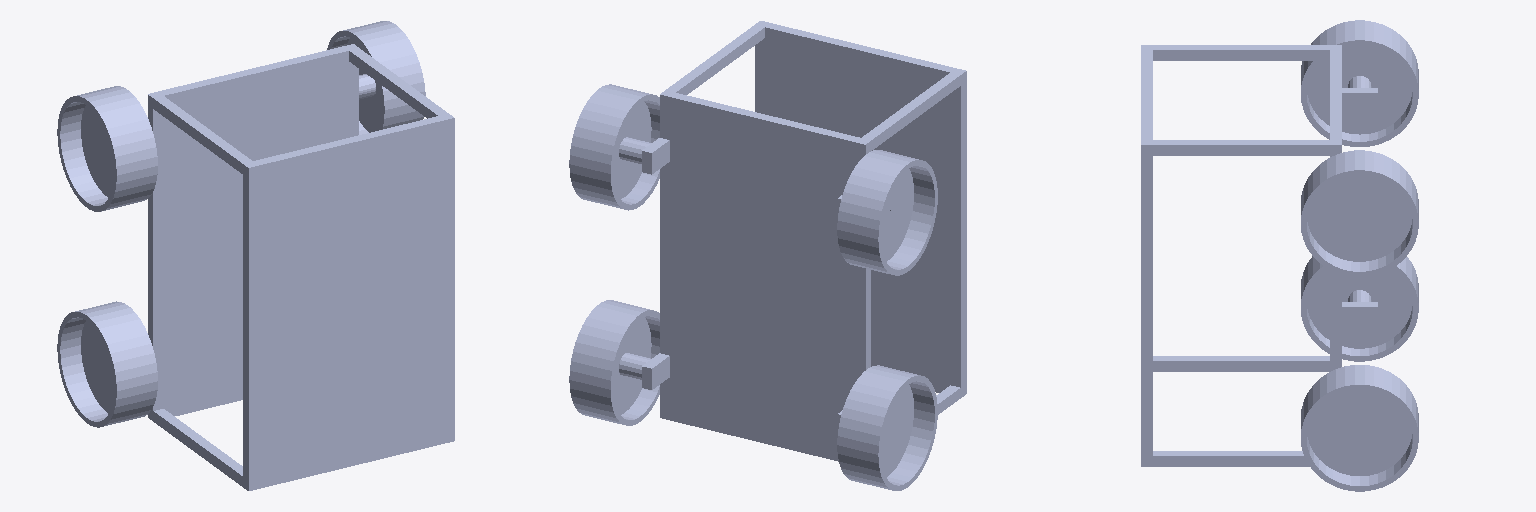
URDF robot description (Robot_Model_Description):
<?xml version="1.0" encoding="utf-8"?>
<!-- This URDF was automatically created by SolidWorks to URDF Exporter! Originally created by [author] ([email redacted]) 
     Commit Version: 1.6.0-1-g15f4949  Build Version: 1.6.7594.29634
     For more information, please see http://wiki.ros.org/sw_urdf_exporter -->
<robot
  name="Robot_Model_Description">
  <link
    name="base_link">
    <inertial>
      <origin
        xyz="0.092069329312619 0.147088478903328 0.259631456685728"
        rpy="0 0 0" />
      <mass
        value="1.29342477796077" />
      <inertia
        ixx="0.0187270757133084"
        ixy="1.64906726918572E-17"
        ixz="1.99535596146657E-17"
        iyy="0.0130141185757167"
        iyz="4.21187981926449E-18"
        izz="0.0154812562313482" />
    </inertial>
    <visual>
      <origin
        xyz="0 0 0"
        rpy="0 0 0" />
      <geometry>
        <mesh
          filename="package://Robot_Model_Description/meshes/base_link.STL" />
      </geometry>
      <material
        name="">
        <color
          rgba="0.792156862745098 0.819607843137255 0.933333333333333 1" />
      </material>
    </visual>
    <collision>
      <origin
        xyz="0 0 0"
        rpy="0 0 0" />
      <geometry>
        <mesh
          filename="package://Robot_Model_Description/meshes/base_link.STL" />
      </geometry>
    </collision>
  </link>
  <link
    name="FrontRight_Wheel_Link">
    <inertial>
      <origin
        xyz="2.77555756156289E-17 -0.0281275303643724 0"
        rpy="0 0 0" />
      <mass
        value="0.0969966731795849" />
      <inertia
        ixx="9.38005213215943E-05"
        ixy="-1.12237458356287E-36"
        ixz="1.95021298162857E-36"
        iyy="0.000167618694284579"
        iyz="1.0179478791177E-20"
        izz="9.38005213215944E-05" />
    </inertial>
    <visual>
      <origin
        xyz="0 0 0"
        rpy="0 0 0" />
      <geometry>
        <mesh
          filename="package://Robot_Model_Description/meshes/FrontRight_Wheel_Link.STL" />
      </geometry>
      <material
        name="">
        <color
          rgba="0.792156862745098 0.819607843137255 0.933333333333333 1" />
      </material>
    </visual>
    <collision>
      <origin
        xyz="0 0 0"
        rpy="0 0 0" />
      <geometry>
        <mesh
          filename="package://Robot_Model_Description/meshes/FrontRight_Wheel_Link.STL" />
      </geometry>
    </collision>
  </link>
  <joint
    name="FrontRight_Wheel_Joint"
    type="continuous">
    <origin
      xyz="0.19207 -0.16222 0.24709"
      rpy="1.5708 -1.5708 0" />
    <parent
      link="base_link" />
    <child
      link="FrontRight_Wheel_Link" />
    <axis
      xyz="0 1 0" />
    <limit
      effort="100"
      velocity="100" />
  </joint>
  <link
    name="FrontLeft_Wheel_Link">
    <inertial>
      <origin
        xyz="2.77555756156289E-17 -0.0281275303643725 0"
        rpy="0 0 0" />
      <mass
        value="0.0969966731795848" />
      <inertia
        ixx="9.38005213215944E-05"
        ixy="-1.12237458356287E-36"
        ixz="1.95021298162857E-36"
        iyy="0.000167618694284579"
        iyz="4.53259247614831E-21"
        izz="9.38005213215944E-05" />
    </inertial>
    <visual>
      <origin
        xyz="0 0 0"
        rpy="0 0 0" />
      <geometry>
        <mesh
          filename="package://Robot_Model_Description/meshes/FrontLeft_Wheel_Link.STL" />
      </geometry>
      <material
        name="">
        <color
          rgba="0.792156862745098 0.819607843137255 0.933333333333333 1" />
      </material>
    </visual>
    <collision>
      <origin
        xyz="0 0 0"
        rpy="0 0 0" />
      <geometry>
        <mesh
          filename="package://Robot_Model_Description/meshes/FrontLeft_Wheel_Link.STL" />
      </geometry>
    </collision>
  </link>
  <joint
    name="FrontLeft_Wheel_Joint"
    type="continuous">
    <origin
      xyz="-0.0079307 -0.16222 0.24709"
      rpy="1.5708 1.5708 0" />
    <parent
      link="base_link" />
    <child
      link="FrontLeft_Wheel_Link" />
    <axis
      xyz="0 1 0" />
    <limit
      effort="100"
      velocity="100" />
  </joint>
  <link
    name="BackLeft_Wheel_Link">
    <inertial>
      <origin
        xyz="1.38777878078145E-17 -0.0281275303643725 0"
        rpy="0 0 0" />
      <mass
        value="0.0969966731795848" />
      <inertia
        ixx="9.38005213215944E-05"
        ixy="-1.12237458356287E-36"
        ixz="1.95021298162857E-36"
        iyy="0.000167618694284579"
        iyz="4.53259247614831E-21"
        izz="9.38005213215944E-05" />
    </inertial>
    <visual>
      <origin
        xyz="0 0 0"
        rpy="0 0 0" />
      <geometry>
        <mesh
          filename="package://Robot_Model_Description/meshes/BackLeft_Wheel_Link.STL" />
      </geometry>
      <material
        name="">
        <color
          rgba="0.792156862745098 0.819607843137255 0.933333333333333 1" />
      </material>
    </visual>
    <collision>
      <origin
        xyz="0 0 0"
        rpy="0 0 0" />
      <geometry>
        <mesh
          filename="package://Robot_Model_Description/meshes/BackLeft_Wheel_Link.STL" />
      </geometry>
    </collision>
  </link>
  <joint
    name="BackLeft_Wheel_Joint"
    type="continuous">
    <origin
      xyz="-0.0079307 -0.16222 0.047088"
      rpy="1.5708 1.5708 0" />
    <parent
      link="base_link" />
    <child
      link="BackLeft_Wheel_Link" />
    <axis
      xyz="0 1 0" />
    <limit
      effort="100"
      velocity="100" />
  </joint>
  <link
    name="BackRight_Wheel_Link">
    <inertial>
      <origin
        xyz="-1.38777878078145E-17 -0.0281275303643724 0"
        rpy="0 0 0" />
      <mass
        value="0.0969966731795849" />
      <inertia
        ixx="9.38005213215943E-05"
        ixy="-1.12237458356287E-36"
        ixz="1.95021298162857E-36"
        iyy="0.000167618694284579"
        iyz="1.0179478791177E-20"
        izz="9.38005213215944E-05" />
    </inertial>
    <visual>
      <origin
        xyz="0 0 0"
        rpy="0 0 0" />
      <geometry>
        <mesh
          filename="package://Robot_Model_Description/meshes/BackRight_Wheel_Link.STL" />
      </geometry>
      <material
        name="">
        <color
          rgba="0.792156862745098 0.819607843137255 0.933333333333333 1" />
      </material>
    </visual>
    <collision>
      <origin
        xyz="0 0 0"
        rpy="0 0 0" />
      <geometry>
        <mesh
          filename="package://Robot_Model_Description/meshes/BackRight_Wheel_Link.STL" />
      </geometry>
    </collision>
  </link>
  <joint
    name="BackRight_Wheel_Joint"
    type="continuous">
    <origin
      xyz="0.19207 -0.16222 0.047088"
      rpy="1.5708 -1.5708 0" />
    <parent
      link="base_link" />
    <child
      link="BackRight_Wheel_Link" />
    <axis
      xyz="0 1 0" />
    <limit
      effort="100"
      velocity="100" />
  </joint>
</robot>

--- Facts derived from the render (not from the file) ---
Views: 3 orthographic renders of the robot side by side, from view 1: azimuth 30°, elevation 25°; view 2: azimuth 150°, elevation 25°; view 3: azimuth 270°, elevation 25°.
Model Robot_Model_Description with 5 links and 4 joints (4 continuous), rooted at base_link, posed all joints at 0.
Links seen in each view (by area): view 1: base_link, FrontLeft_Wheel_Link, BackLeft_Wheel_Link, FrontRight_Wheel_Link; view 2: base_link, FrontLeft_Wheel_Link, BackLeft_Wheel_Link, BackRight_Wheel_Link, FrontRight_Wheel_Link; view 3: base_link, BackRight_Wheel_Link, FrontRight_Wheel_Link, FrontLeft_Wheel_Link, BackLeft_Wheel_Link.
Boxes of the visible links, <box> form: base_link: <box>105,44,454,490</box>; FrontLeft_Wheel_Link: <box>57,86,157,211</box>; BackLeft_Wheel_Link: <box>57,301,157,427</box>; FrontRight_Wheel_Link: <box>327,21,425,134</box>; base_link: <box>642,21,966,461</box>; FrontLeft_Wheel_Link: <box>837,150,937,275</box>; BackLeft_Wheel_Link: <box>837,365,937,490</box>; BackRight_Wheel_Link: <box>569,300,659,425</box>; FrontRight_Wheel_Link: <box>569,84,659,210</box>; base_link: <box>1141,45,1377,466</box>; BackRight_Wheel_Link: <box>1301,365,1418,491</box>; FrontRight_Wheel_Link: <box>1301,150,1418,276</box>; FrontLeft_Wheel_Link: <box>1301,20,1418,146</box>; BackLeft_Wheel_Link: <box>1301,256,1418,361</box>.
Bounding box of the posed robot: 0.3 × 0.235 × 0.3 m (x, y, z).
5 mesh visuals loaded from 5 distinct referenced files (5 binary STL).